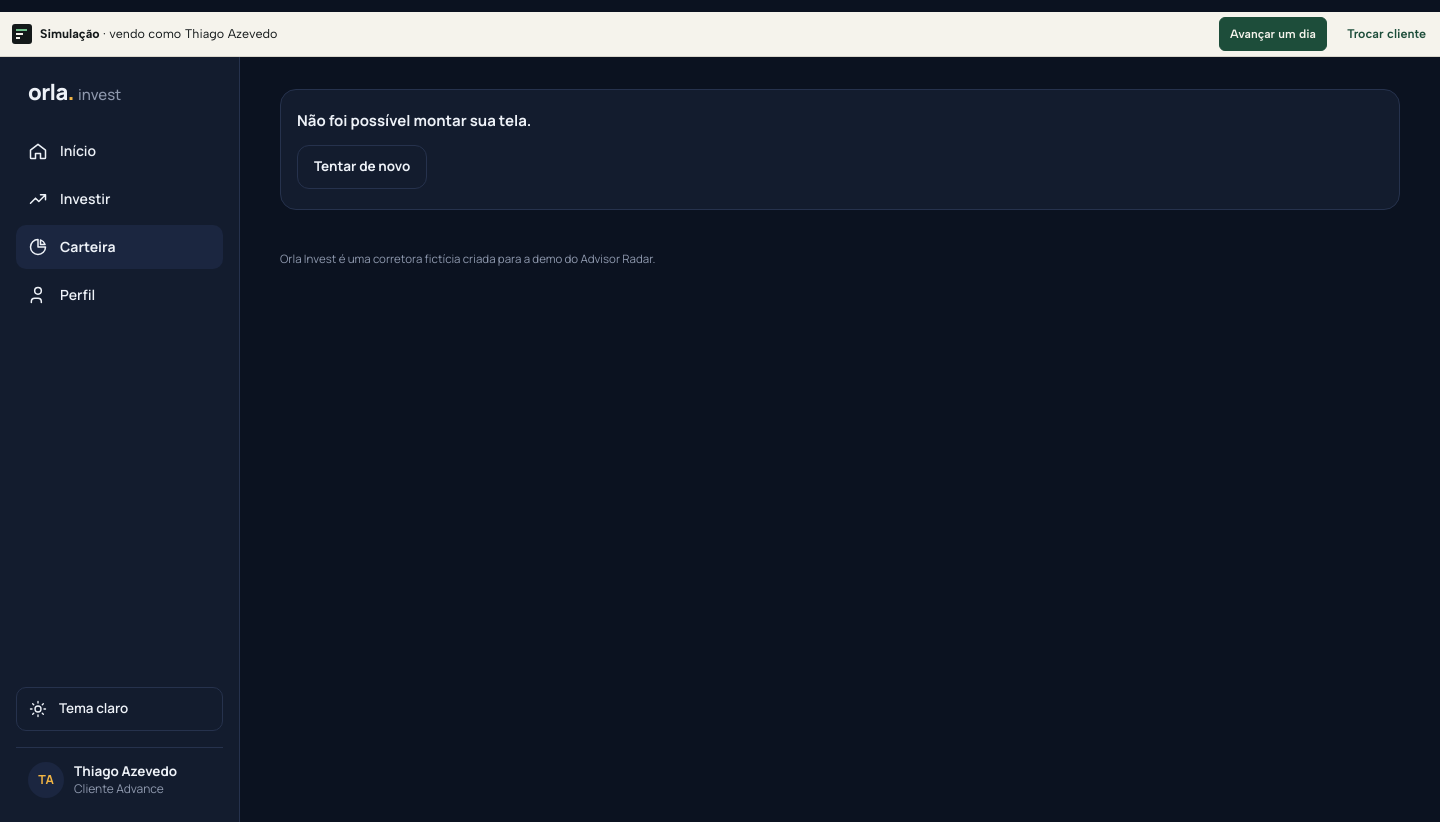
Test: Carteira route › shows the error state when the Carteira request fails and recovers on retry
The width and height of the screenshot is (1440, 822).
Expected: the message reads "Não foi possível montar sua tela.", [297,110,531,131]
Expected: the navigation bar named "Navegação principal" is shown, [16,129,223,317]
Click the button "Tentar de novo": x=362, y=167 [297,145,427,189]
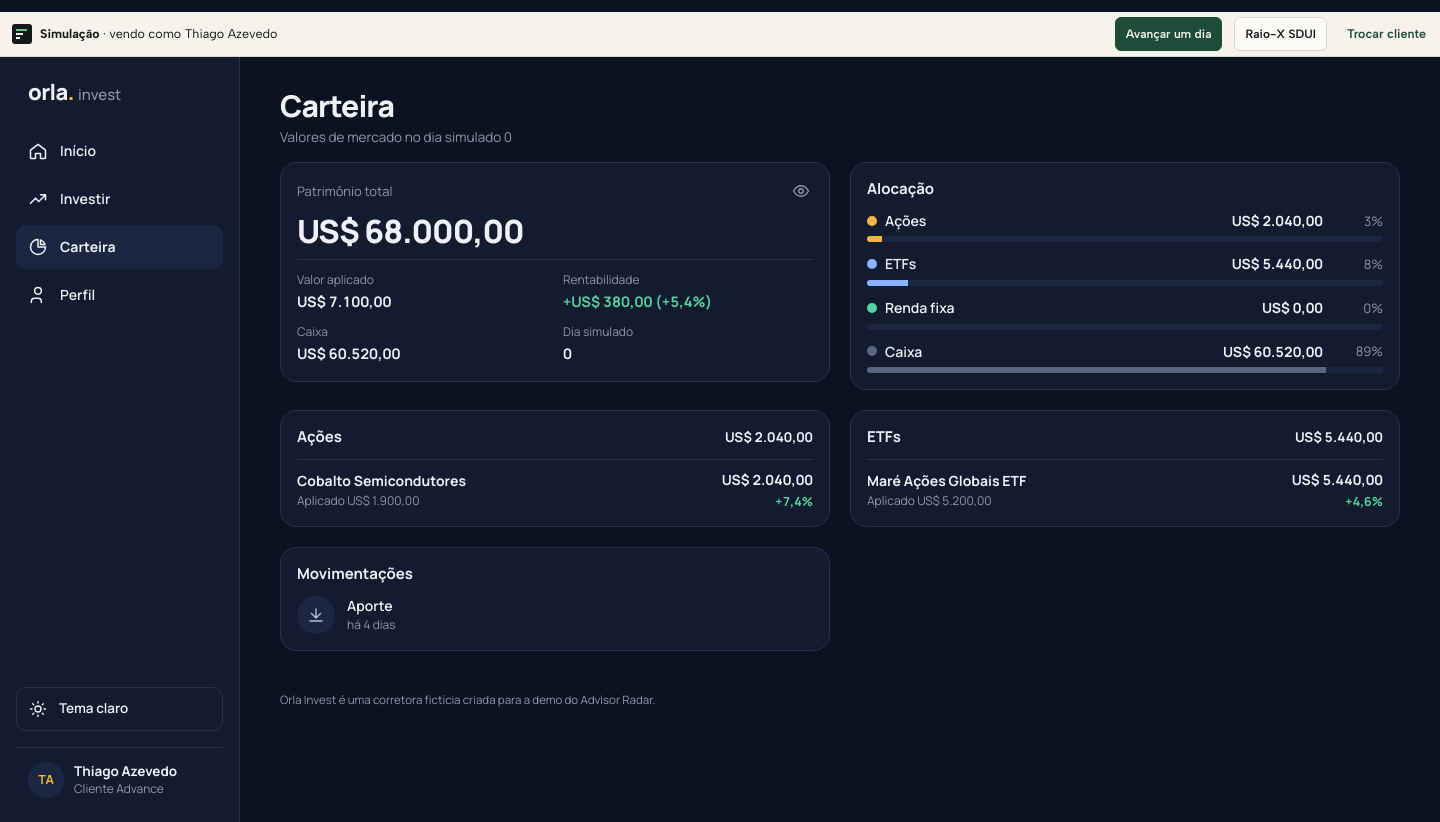
Now the heading "Carteira" is shown, box [280,85,394,126]
Now the message "Não foi possível montar sua tela." is gone
